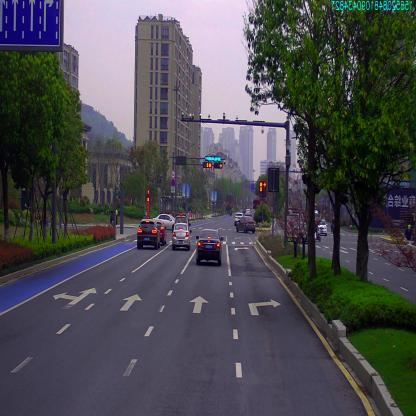traffic-light: (206, 156, 221, 161), (204, 159, 213, 166), (214, 162, 222, 168)
